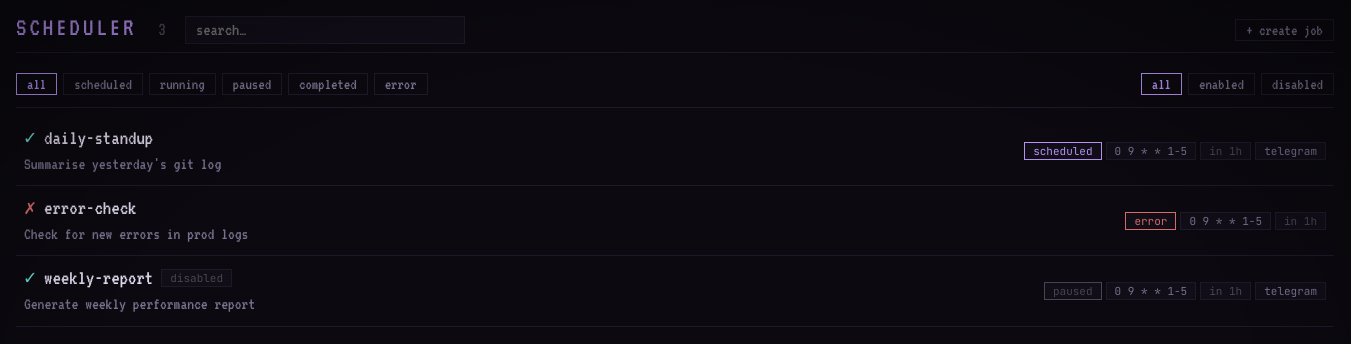
Test: SchedulerView › state filter tabs › enabled filter shows only enabled jobs
What coordinates should you click on to do the following:
click the button "enabled"
I would click on:
 (1221, 84)
Its box is [1188,73,1255,95].
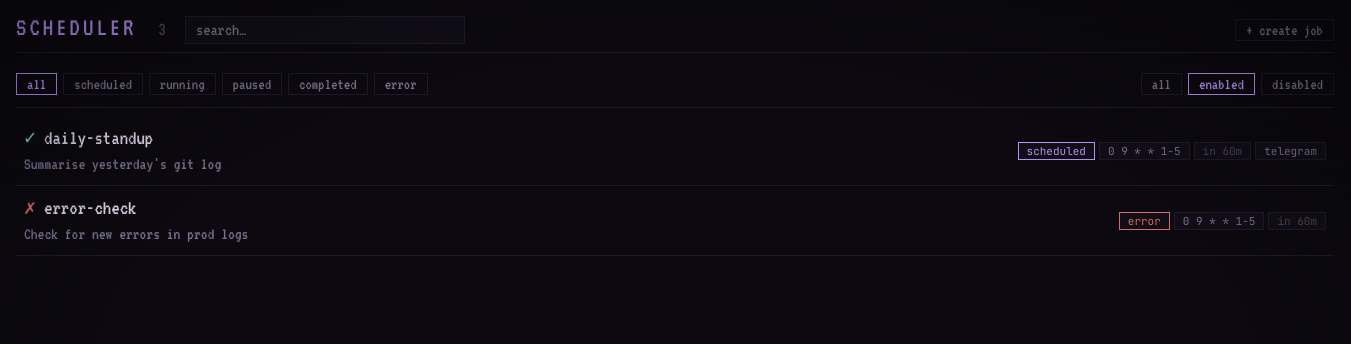
Now the number of elements with class "dv-row-title" is 2, box [24,127,153,148]; [24,197,136,218]
